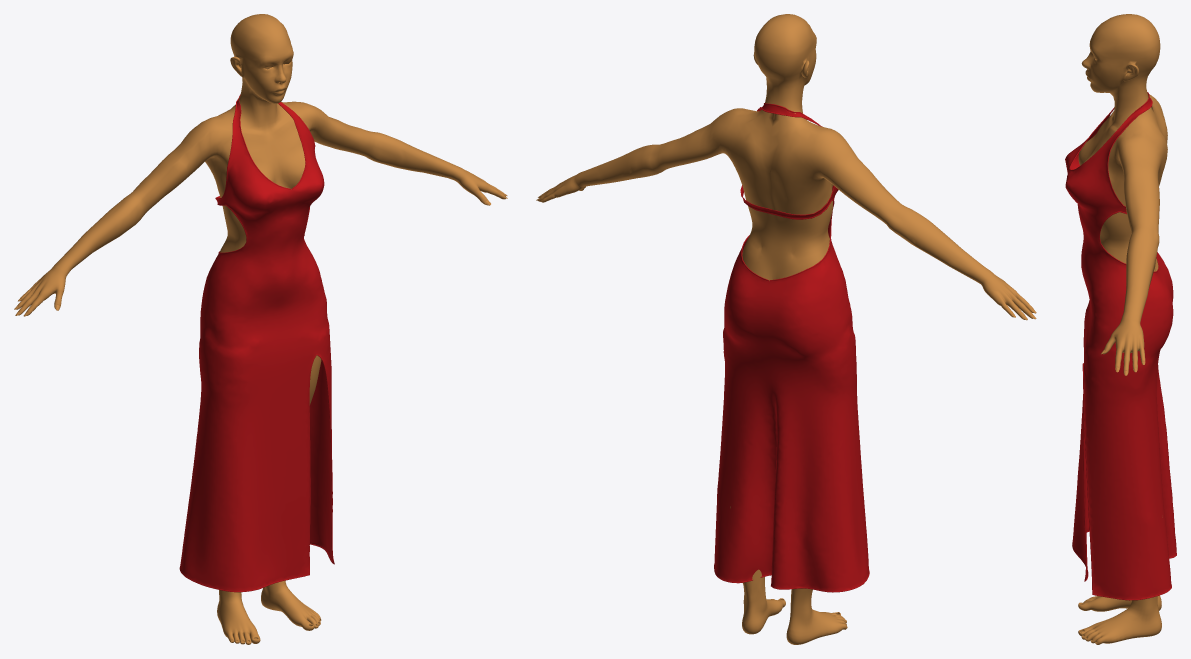
The model's file is dress3.glb.
The picture shows the model from 3 angles, left to right: view 1: azimuth 30°, elevation 25°; view 2: azimuth 150°, elevation 25°; view 3: azimuth 270°, elevation 25°; orthographic projection.
Parts seen in each view (by area): view 1: EveningDress, Body; view 2: EveningDress, Body; view 3: EveningDress, Body.
Part boxes in pixels (<box>): EveningDress: <box>179,94,334,592</box>; Body: <box>16,14,506,644</box>; EveningDress: <box>714,103,869,592</box>; Body: <box>538,14,1033,644</box>; EveningDress: <box>1065,92,1176,600</box>; Body: <box>1078,14,1167,644</box>.
Bounding box in the file's own units: 1.58 × 1.85 × 0.3089.
